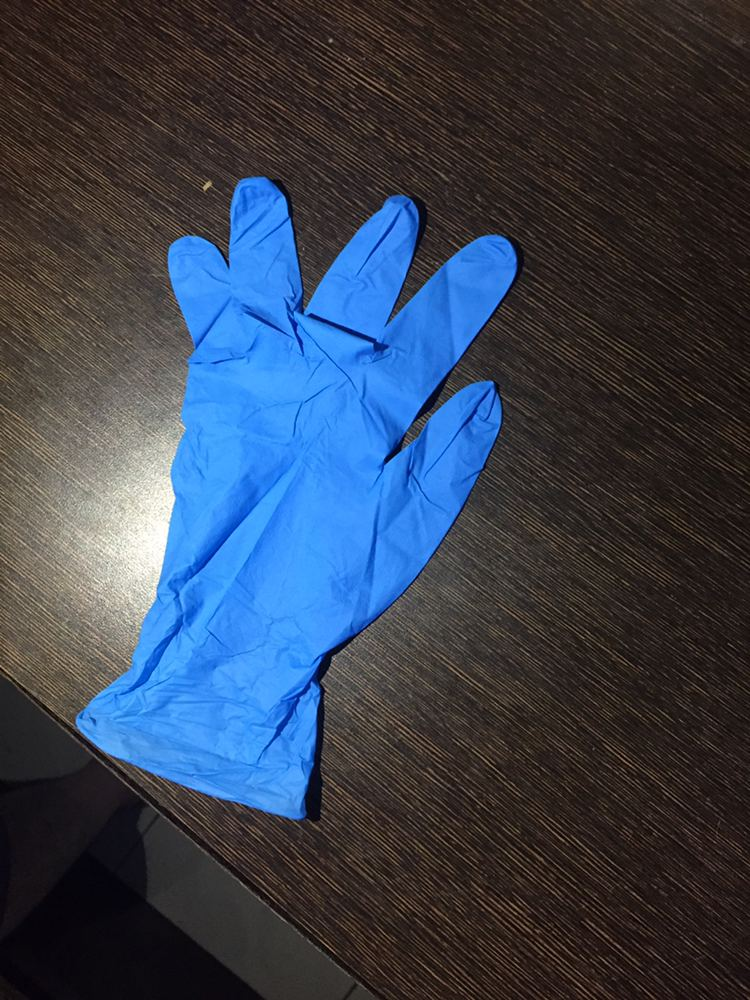glove: (115, 134, 576, 706)
